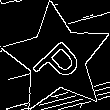P_NE: (26, 27, 88, 90)
